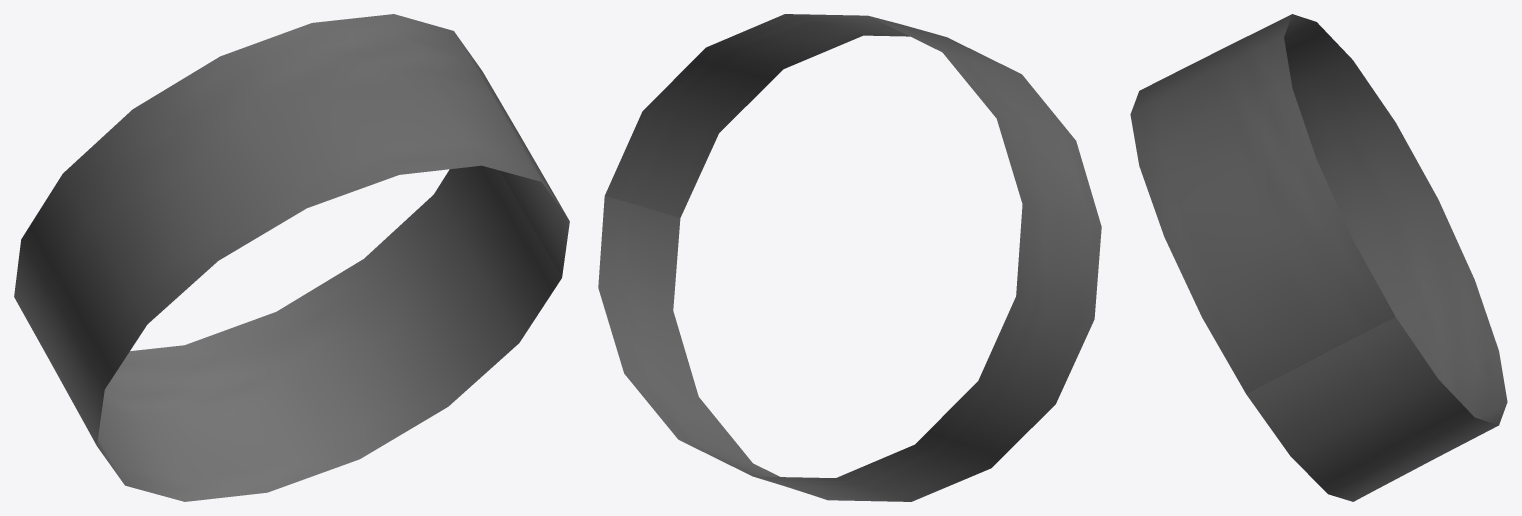
The model's file is mastarmcurve_6x2_c1.obj.
3 views of the same model, side by side, from view 1: azimuth 30°, elevation 25°; view 2: azimuth 150°, elevation 25°; view 3: azimuth 270°, elevation 25° (orthographic). The views are drawn at different scales.
Visible parts, largest first — view 1: mastarm_6x2_c1; view 2: mastarm_6x2_c1; view 3: mastarm_6x2_c1.
Part boxes in pixels (x1,y1,x2,y2): mastarm_6x2_c1: (14,14,569,501); mastarm_6x2_c1: (598,14,1101,501); mastarm_6x2_c1: (1130,14,1507,501).
Size of the model in its own units: 0.6083 by 0.6386 by 0.4949.
